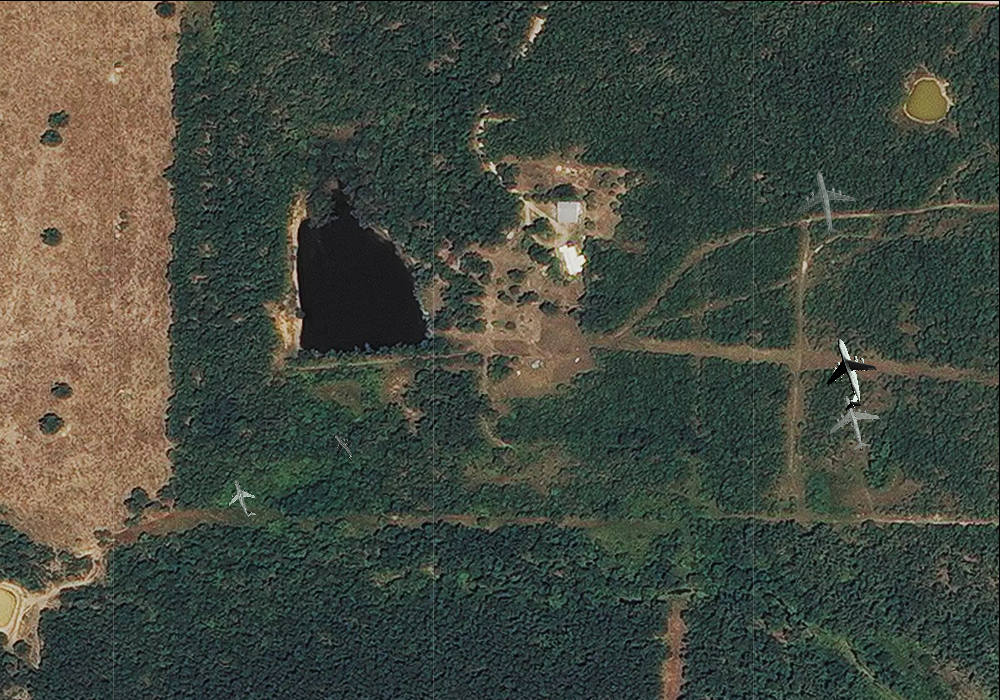plane: (806, 329, 889, 418), (786, 163, 862, 242), (821, 387, 887, 457), (221, 474, 265, 522), (323, 427, 363, 467)
